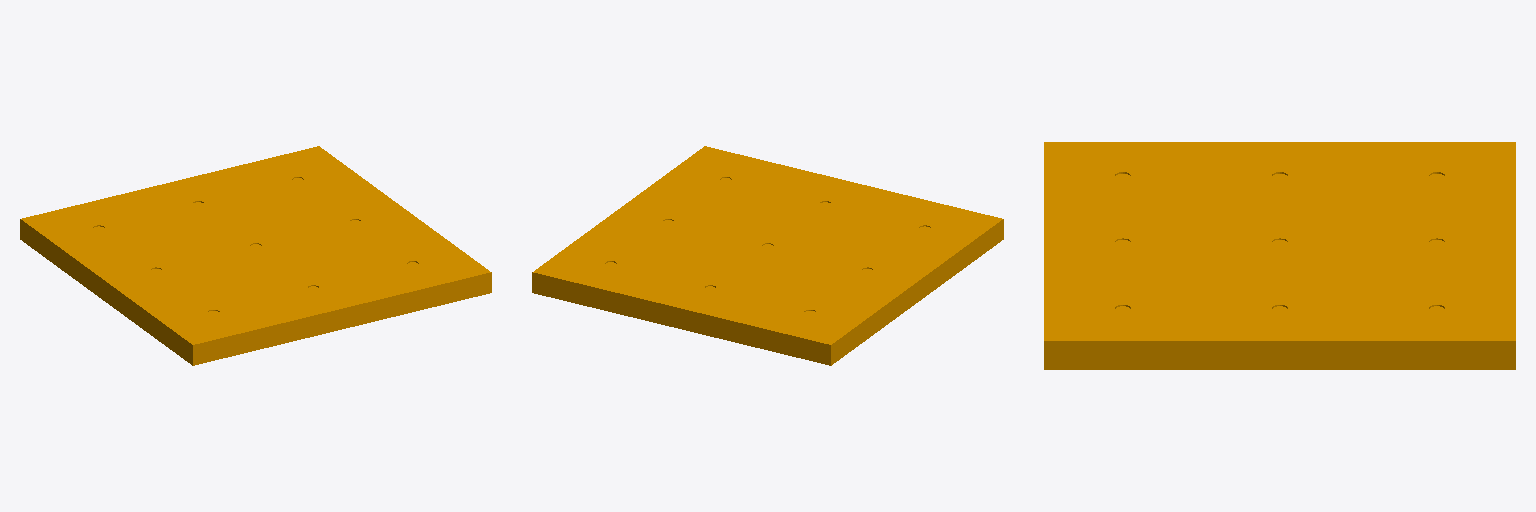
robot.urdf — pointsheet_c:
<?xml version="1.0" ?>
<robot name="pointsheet_c">

<link name="pointsheet_c_base_link">
  <inertial>
    <origin xyz="-1.2167633160835552e-15 -3.0531133177191805e-18 -3.73210687101555e-07" rpy="0 0 0"/>
    <mass value="0.014124451161975603"/>
    <inertia ixx="1e-06" iyy="1e-06" izz="2e-06" ixy="-0.0" iyz="0.0" ixz="0.0"/>
  </inertial>
  <visual>
    <origin xyz="0 0 0" rpy="0 0 0"/>
    <geometry>
      <mesh filename="meshes/pointsheet_c_base_link.stl" scale="0.001 0.001 0.001"/>
    </geometry>
    <material name="silver"/>
  </visual>
  <collision>
    <origin xyz="0 0 0" rpy="0 0 0"/>
    <geometry>
      <mesh filename="meshes/pointsheet_c_base_link.stl" scale="0.001 0.001 0.001"/>
    </geometry>
  </collision>
</link>

<link name="pointsheet_c_APC1_1">
  <inertial>
    <origin xyz="-2.0816681711721685e-17 0.0 4.0766001685454967e-17" rpy="0 0 0"/>
    <mass value="3.288200310757325e-05"/>
    <inertia ixx="0.0" iyy="0.0" izz="0.0" ixy="-0.0" iyz="0.0" ixz="0.0"/>
  </inertial>
  
  
</link>

<link name="pointsheet_c_APE2_1">
  <inertial>
    <origin xyz="4.023538537804426e-18 0.0 4.0766001685454967e-17" rpy="0 0 0"/>
    <mass value="3.288200310757325e-05"/>
    <inertia ixx="0.0" iyy="0.0" izz="0.0" ixy="-0.0" iyz="0.0" ixz="0.0"/>
  </inertial>
  
  
</link>

<link name="pointsheet_c_APC2_1">
  <inertial>
    <origin xyz="2.42861286636753e-17 -3.469446951953614e-18 1.8539857149502126e-17" rpy="0 0 0"/>
    <mass value="3.288200310757325e-05"/>
    <inertia ixx="0.0" iyy="0.0" izz="0.0" ixy="0.0" iyz="0.0" ixz="0.0"/>
  </inertial>
  
  
</link>

<link name="pointsheet_c_APC3_1">
  <inertial>
    <origin xyz="2.2551405187698492e-17 -3.3669994270241256e-18 3.415236843329339e-17" rpy="0 0 0"/>
    <mass value="3.288200310757325e-05"/>
    <inertia ixx="0.0" iyy="0.0" izz="0.0" ixy="0.0" iyz="0.0" ixz="0.0"/>
  </inertial>
  
  
</link>

<link name="pointsheet_c_APC4_1">
  <inertial>
    <origin xyz="4.5102810375396984e-17 8.673617379884035e-18 3.859759734048396e-17" rpy="0 0 0"/>
    <mass value="3.288200310757325e-05"/>
    <inertia ixx="0.0" iyy="0.0" izz="0.0" ixy="-0.0" iyz="0.0" ixz="0.0"/>
  </inertial>
  
  
</link>

<link name="pointsheet_c_APE1_1">
  <inertial>
    <origin xyz="2.2869956771651794e-18 6.938893903907228e-18 3.415236843329339e-17" rpy="0 0 0"/>
    <mass value="3.288200310757325e-05"/>
    <inertia ixx="0.0" iyy="0.0" izz="0.0" ixy="0.0" iyz="0.0" ixz="0.0"/>
  </inertial>
  
  
</link>

<link name="pointsheet_c_APP_1">
  <inertial>
    <origin xyz="-2.0816681711721685e-17 8.673617379884035e-18 2.970713952610282e-17" rpy="0 0 0"/>
    <mass value="3.288200310757325e-05"/>
    <inertia ixx="0.0" iyy="0.0" izz="0.0" ixy="0.0" iyz="0.0" ixz="0.0"/>
  </inertial>
  
  
</link>

<link name="pointsheet_c_APE3_1">
  <inertial>
    <origin xyz="1.5761551206637929e-18 -7.807891525524758e-18 4.3042826247674526e-17" rpy="0 0 0"/>
    <mass value="3.288200310757325e-05"/>
    <inertia ixx="0.0" iyy="0.0" izz="0.0" ixy="0.0" iyz="0.0" ixz="0.0"/>
  </inertial>
  
  
</link>

<link name="pointsheet_c_APE4_1">
  <inertial>
    <origin xyz="-2.0816681711721685e-17 -3.3669994270241318e-18 3.859759734048396e-17" rpy="0 0 0"/>
    <mass value="3.288200310757325e-05"/>
    <inertia ixx="0.0" iyy="0.0" izz="0.0" ixy="0.0" iyz="0.0" ixz="0.0"/>
  </inertial>
  
  
</link>

<link name="pointsheet_c_APM_1">
  <inertial>
    <origin xyz="3.032274858957919e-18 -1.668967572252601e-17 3.903127820947816e-17" rpy="0 0 0"/>
    <mass value="3.288200310757325e-05"/>
    <inertia ixx="0.0" iyy="0.0" izz="0.0" ixy="0.0" iyz="0.0" ixz="0.0"/>
  </inertial>
  
  
</link>

<joint name="Rigid 11" type="fixed">
  <origin xyz="0.01 -0.01 0.0009" rpy="0 0 0"/>
  <parent link="pointsheet_c_base_link"/>
  <child link="pointsheet_c_APC1_1"/>
</joint>

<joint name="Rigid 12" type="fixed">
  <origin xyz="0.0 -0.01 0.0009" rpy="0 0 0"/>
  <parent link="pointsheet_c_base_link"/>
  <child link="pointsheet_c_APE2_1"/>
</joint>

<joint name="Rigid 13" type="fixed">
  <origin xyz="-0.01 -0.01 0.0009" rpy="0 0 0"/>
  <parent link="pointsheet_c_base_link"/>
  <child link="pointsheet_c_APC2_1"/>
</joint>

<joint name="Rigid 14" type="fixed">
  <origin xyz="-0.01 0.0 0.0009" rpy="0 0 0"/>
  <parent link="pointsheet_c_base_link"/>
  <child link="pointsheet_c_APC3_1"/>
</joint>

<joint name="Rigid 15" type="fixed">
  <origin xyz="-0.01 0.01 0.0009" rpy="0 0 0"/>
  <parent link="pointsheet_c_base_link"/>
  <child link="pointsheet_c_APC4_1"/>
</joint>

<joint name="Rigid 16" type="fixed">
  <origin xyz="0.0 0.01 0.0009" rpy="0 0 0"/>
  <parent link="pointsheet_c_base_link"/>
  <child link="pointsheet_c_APE1_1"/>
</joint>

<joint name="Rigid 17" type="fixed">
  <origin xyz="0.01 0.01 0.0009" rpy="0 0 0"/>
  <parent link="pointsheet_c_base_link"/>
  <child link="pointsheet_c_APP_1"/>
</joint>

<joint name="Rigid 18" type="fixed">
  <origin xyz="0.0 0.0 0.0009" rpy="0 0 0"/>
  <parent link="pointsheet_c_base_link"/>
  <child link="pointsheet_c_APE3_1"/>
</joint>

<joint name="Rigid 19" type="fixed">
  <origin xyz="0.01 0.0 0.0009" rpy="0 0 0"/>
  <parent link="pointsheet_c_base_link"/>
  <child link="pointsheet_c_APE4_1"/>
</joint>

<joint name="Rigid 20" type="fixed">
  <origin xyz="0.0 0.0 -0.001" rpy="0 0 0"/>
  <parent link="pointsheet_c_base_link"/>
  <child link="pointsheet_c_APM_1"/>
</joint>

</robot>

--- Facts derived from the render (not from the file) ---
The picture shows the robot from 3 angles, left to right: view 1: azimuth 30°, elevation 25°; view 2: azimuth 150°, elevation 25°; view 3: azimuth 270°, elevation 25°; orthographic projection.
Robot: pointsheet_c — 11 links, 10 joints (10 fixed); root link pointsheet_c_base_link; default pose: all joints at 0.
Visible links, largest first — view 1: pointsheet_c_base_link; view 2: pointsheet_c_base_link; view 3: pointsheet_c_base_link.
Link boxes in pixels (x1=…): pointsheet_c_base_link: x1=20, y1=146, x2=491, y2=365; pointsheet_c_base_link: x1=532, y1=146, x2=1003, y2=365; pointsheet_c_base_link: x1=1044, y1=142, x2=1515, y2=369.
Bounding box of the posed robot: 0.03 × 0.03 × 0.002 m (x, y, z).
Meshes: 1 distinct files referenced, 1 mesh visuals loaded (1 binary STL).